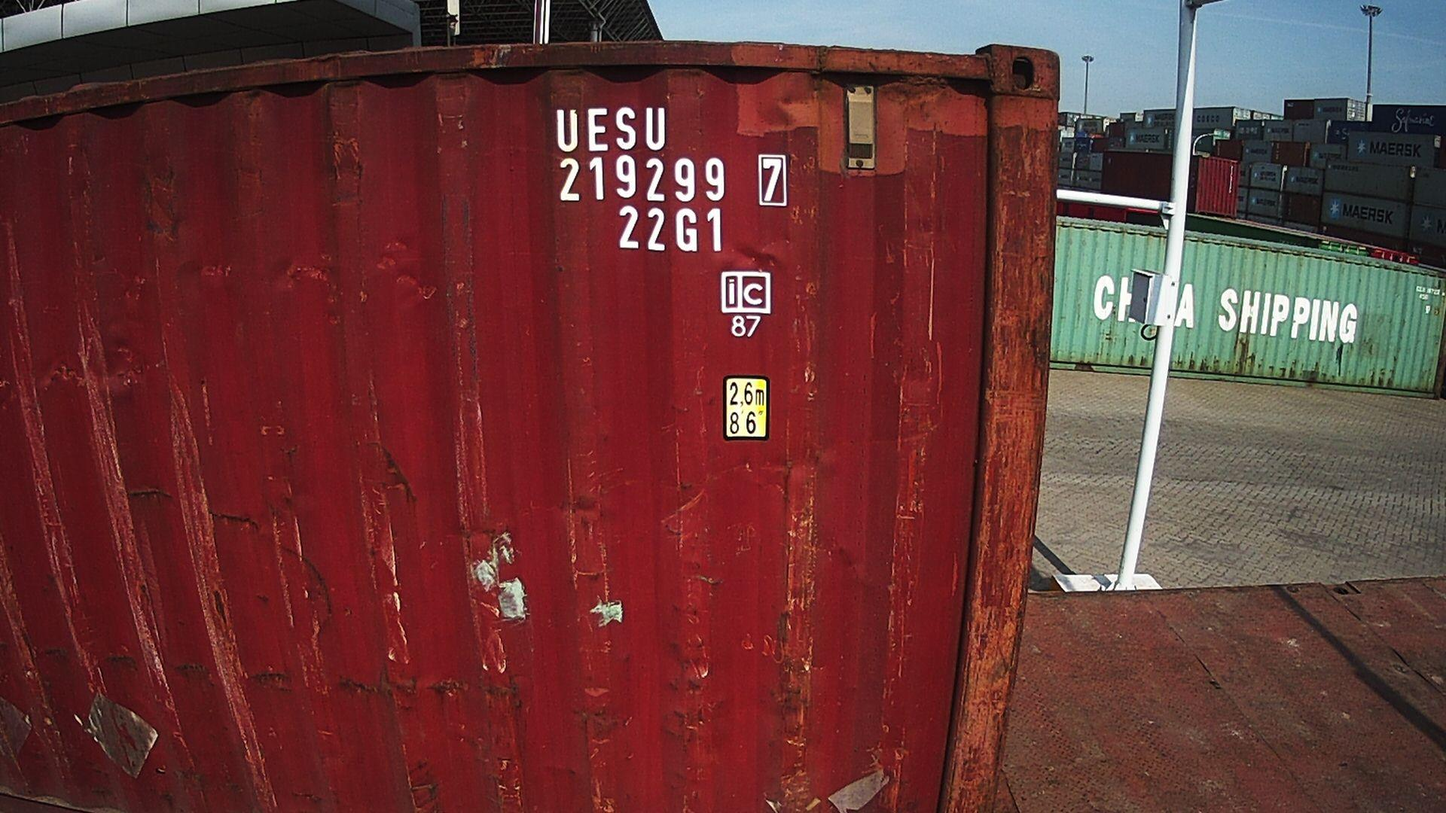container-numbers: (554, 151, 794, 209), (551, 102, 671, 154), (614, 206, 725, 256)
